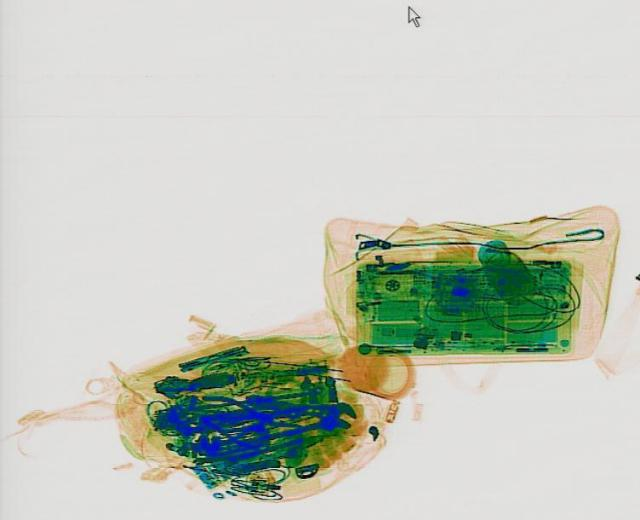Pliers: (199, 396, 305, 442)
Wrench: (241, 384, 359, 432)
